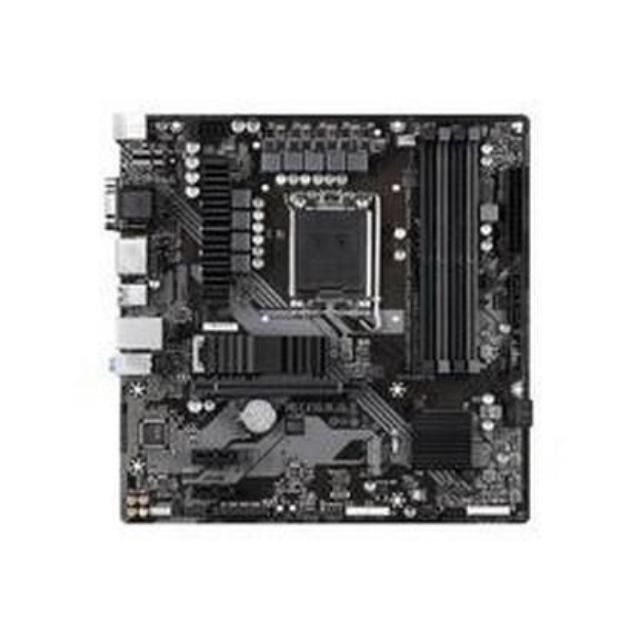Mainboard: (102, 98, 544, 542)
